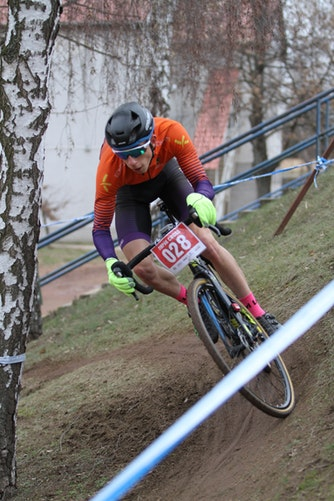helmet: (98, 99, 161, 153)
